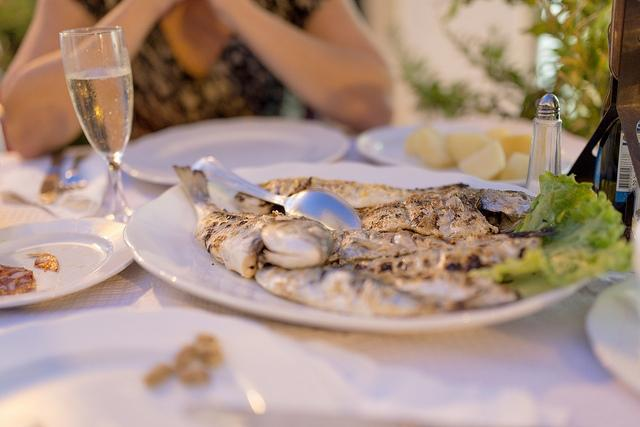lettuce: (488, 170, 632, 300)
